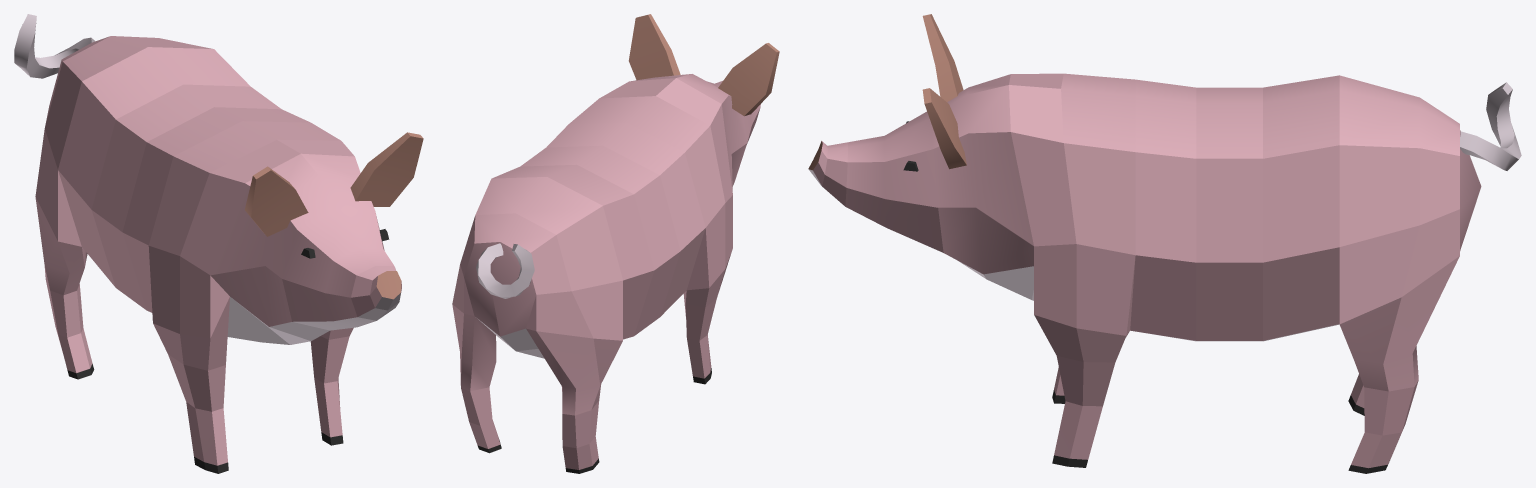
The model's file is animal-pig.glb.
The picture shows the model from 3 angles, left to right: view 1: azimuth 30°, elevation 25°; view 2: azimuth 150°, elevation 25°; view 3: azimuth 270°, elevation 25°; orthographic projection. The views are drawn at different scales.
Visible parts, largest first — view 1: node-0; view 2: node-0; view 3: node-0.
Boxes of the visible parts, <box> form: node-0: <box>14,14,423,473</box>; node-0: <box>452,14,779,473</box>; node-0: <box>808,14,1521,473</box>.
Bounding box in the file's own units: 53.81 × 98.57 × 164.
Materials: 1 (1 with a texture image).
